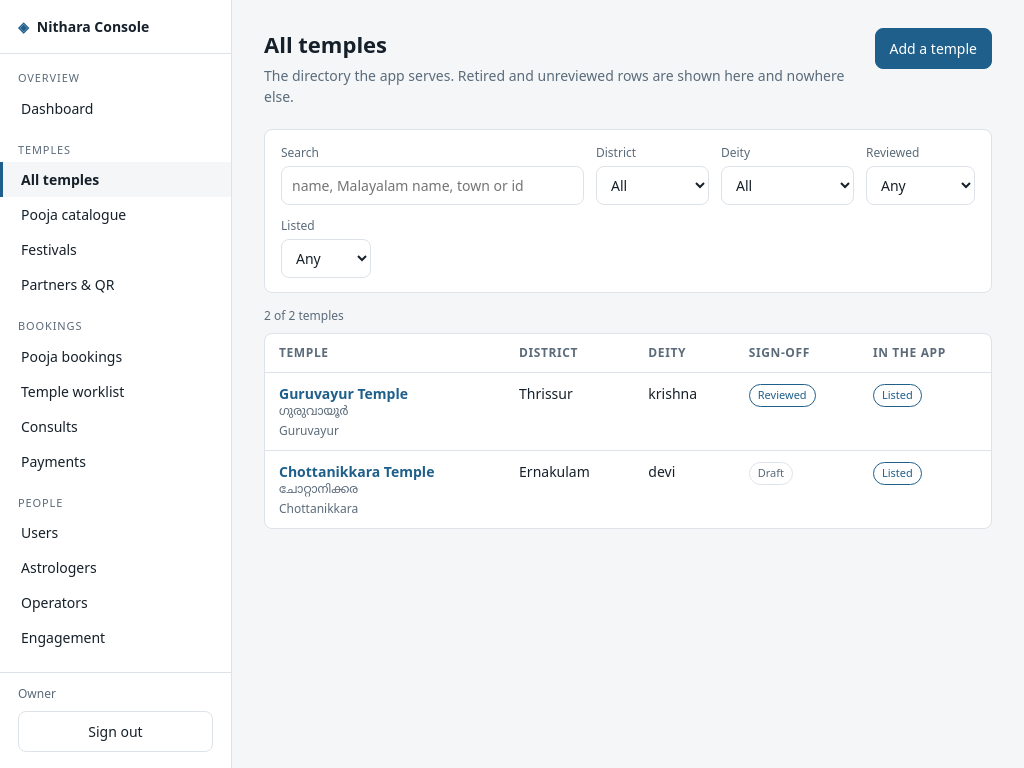
it: the directory list › narrows on a search
Check: the link "Guruvayur Temple" is shown, box x1=279 y1=384 x2=408 y2=403
Type "chott" into the search field labelled "Search" at (432, 186), box x1=281 y1=166 x2=584 y2=205
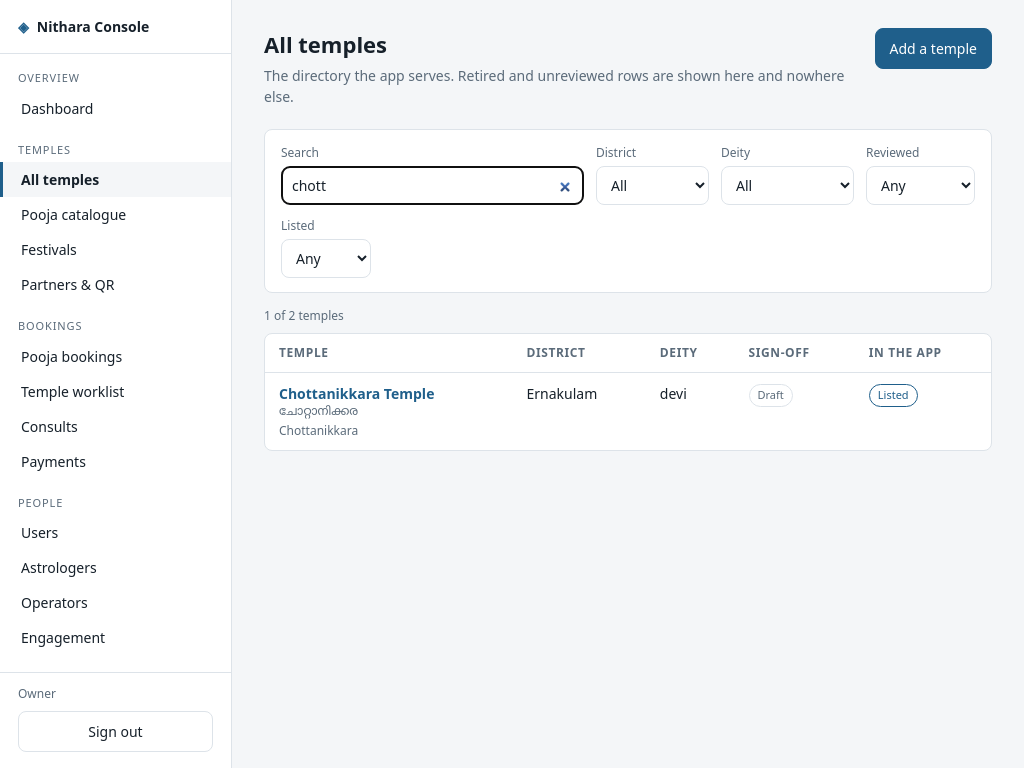
Check: the link "Guruvayur Temple" is gone
Check: the text "1 of 2 temples" is shown, box x1=264 y1=307 x2=344 y2=324
